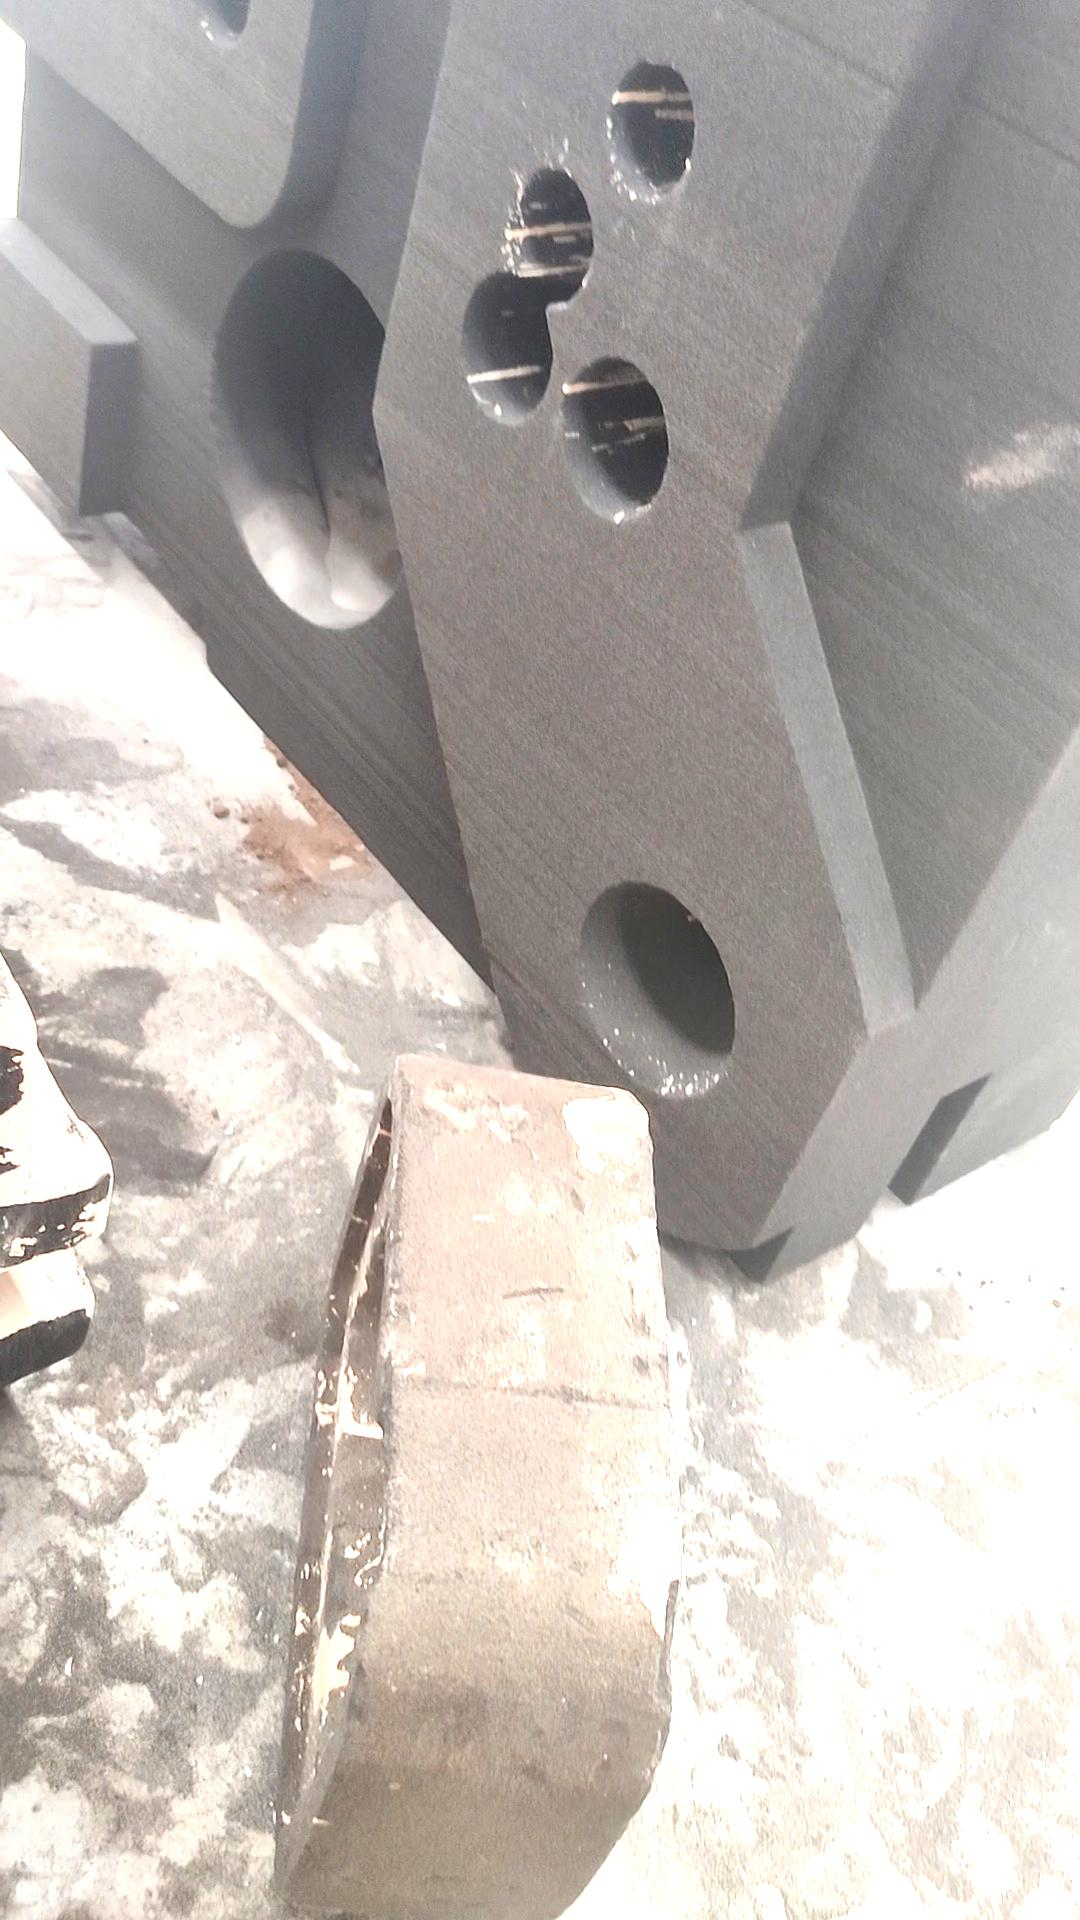pouring hole: (579, 882, 738, 1105)
